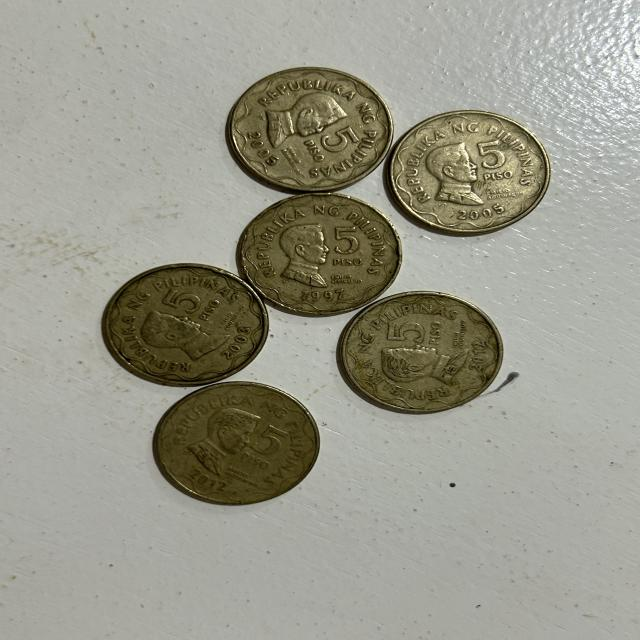5_Old_Front: (383, 316, 458, 360), (236, 417, 306, 464), (162, 285, 225, 331), (473, 139, 527, 190), (288, 123, 358, 161), (329, 225, 369, 273)
